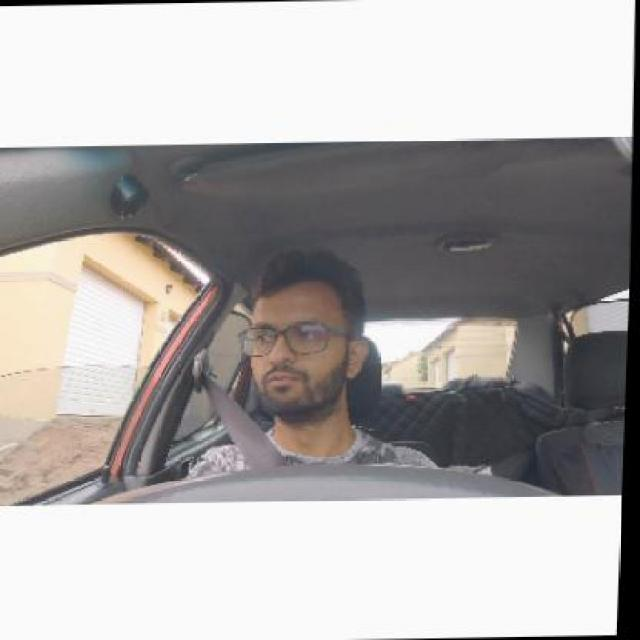person: (226, 253, 381, 424)
